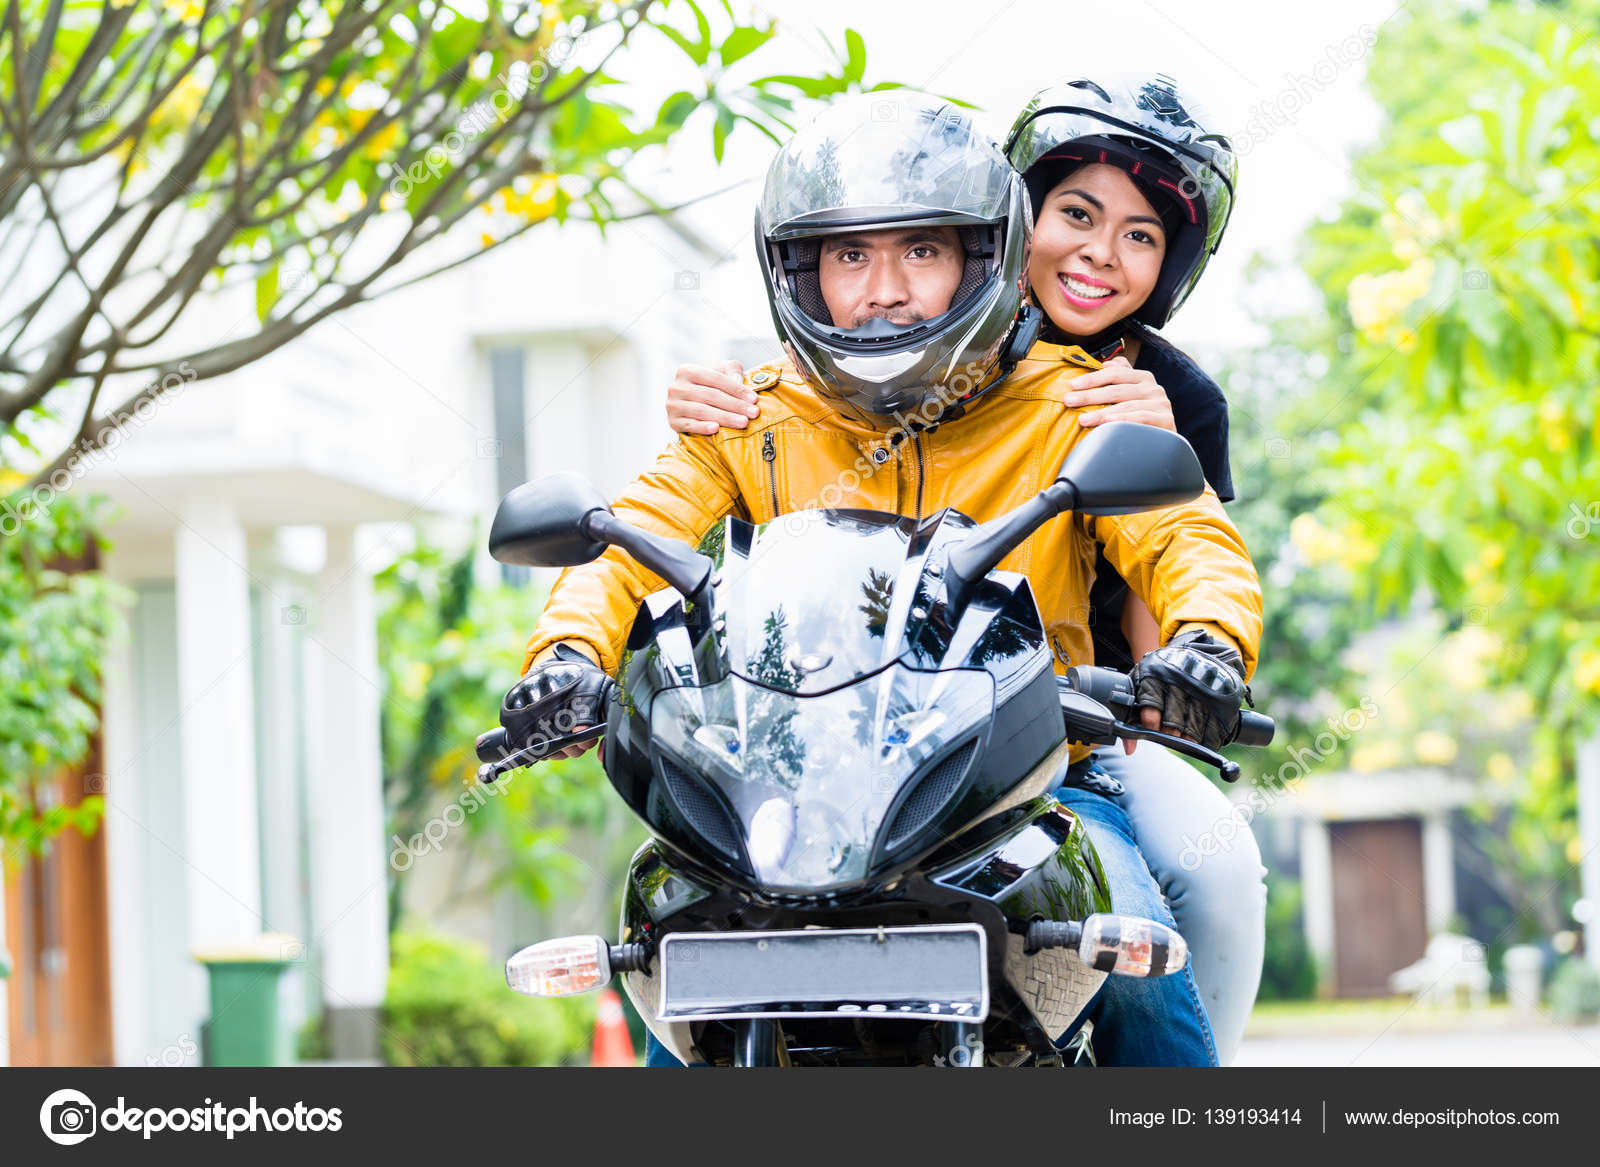helmet: (763, 123, 1037, 432), (1015, 75, 1229, 246)
